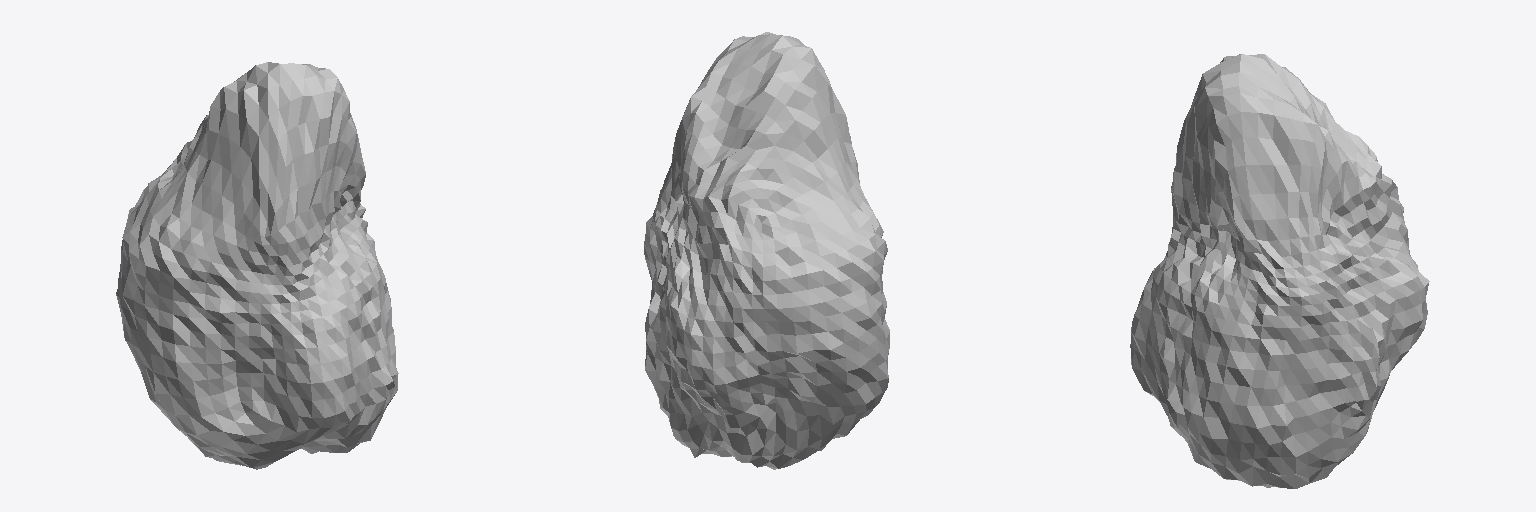
Rendered from Rock_01.obj.
3 renders of one model, left to right at view 1: azimuth 30°, elevation 25°; view 2: azimuth 150°, elevation 25°; view 3: azimuth 270°, elevation 25°, orthographic.
Visible parts, largest first — view 1: Cube; view 2: Cube; view 3: Cube.
Boxes of the visible parts, <box> form: Cube: <box>116,62,398,469</box>; Cube: <box>644,32,889,469</box>; Cube: <box>1130,54,1429,488</box>.
Bounding box in the file's own units: 6.48 × 10.74 × 7.11.